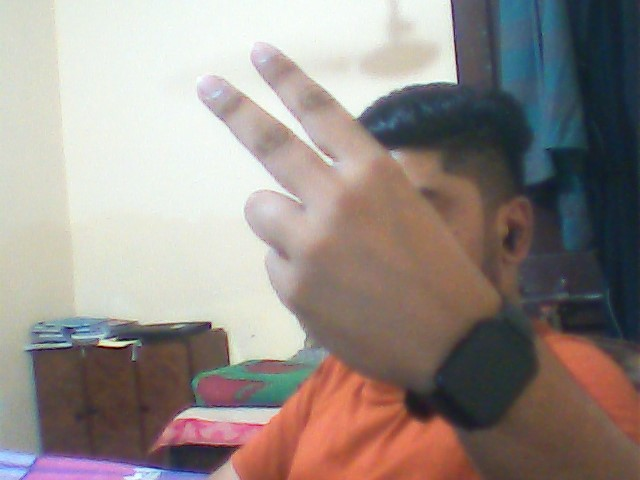Please: (188, 38, 491, 396)
